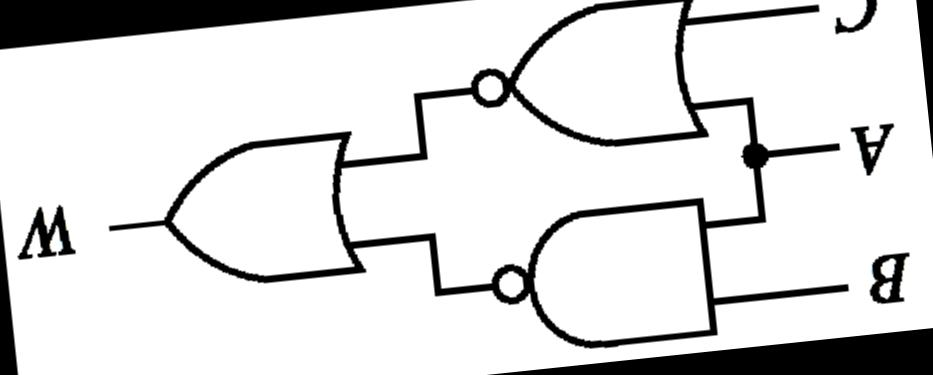nand: (474, 184, 731, 364)
nor: (449, 0, 721, 168)
or: (143, 113, 374, 308)
